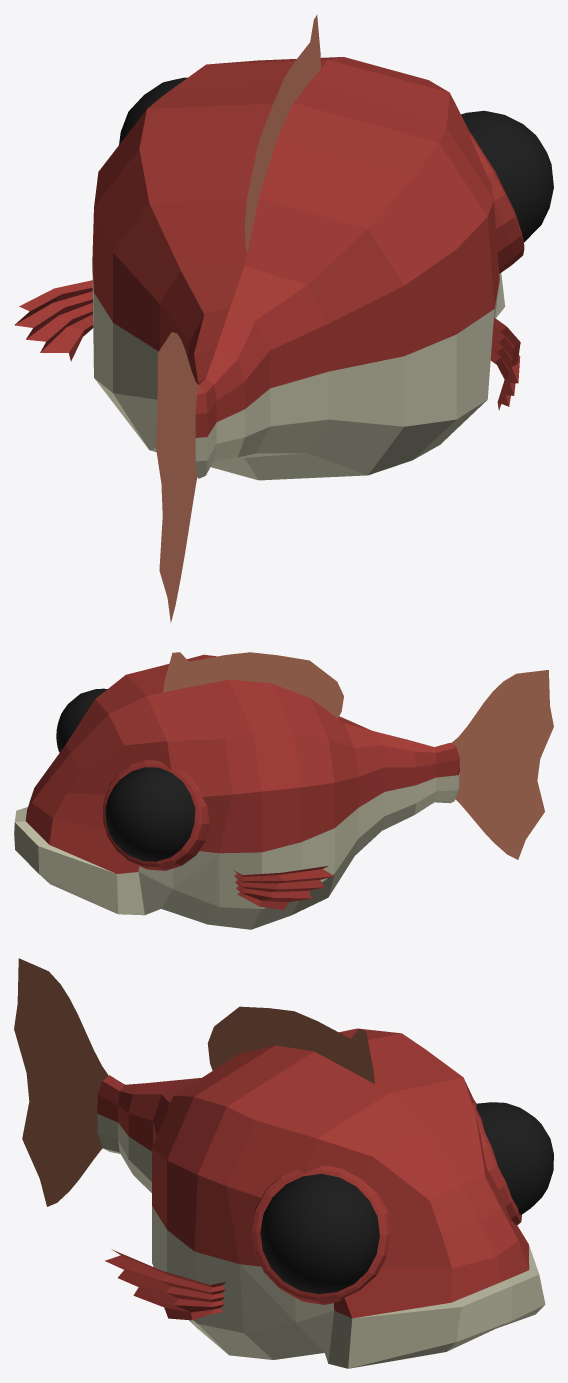
The model's file is redSnapper-optimized.glb.
The picture shows the model from 3 angles, top to bottom: view 1: azimuth 30°, elevation 25°; view 2: azimuth 150°, elevation 25°; view 3: azimuth 270°, elevation 25°; orthographic projection. The views are drawn at different scales.
Visible parts, largest first — view 1: RedSnapper; view 2: RedSnapper; view 3: RedSnapper.
Part boxes in pixels (bbox=[...]): RedSnapper: bbox=[14, 14, 553, 622]; RedSnapper: bbox=[14, 652, 553, 929]; RedSnapper: bbox=[14, 958, 553, 1368].
Bounding box in the file's own units: 0.7007 × 0.4661 × 0.6977.
